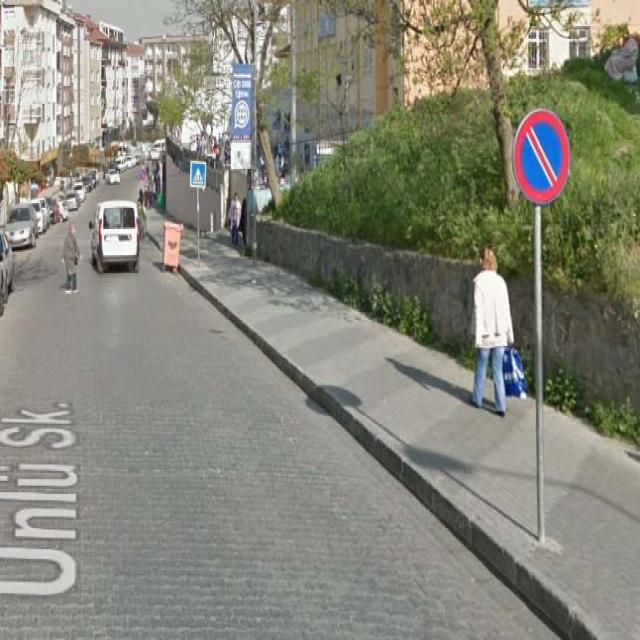parkyasak: (515, 109, 571, 205)
